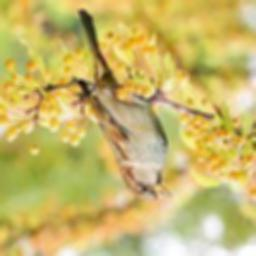Sparrow: (78, 9, 172, 202)
